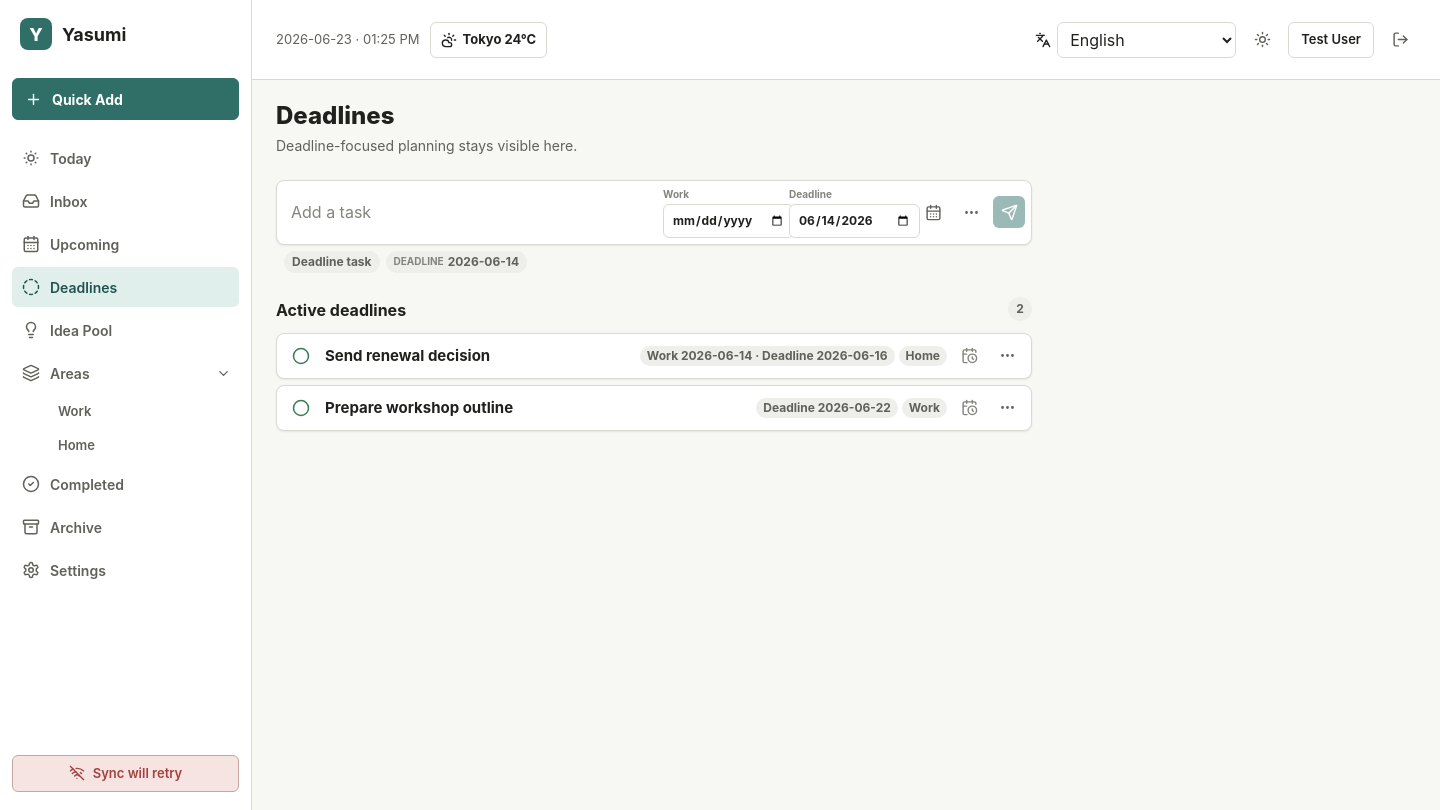
Test case: phase 05 sync UI states › creates deadline tasks from the Deadlines inline add by default
Expected: the heading "Deadlines" is shown, [276,101,394,130]
Type "Inline passport renewal" into the field named "Task title" at (470, 212), box [283,194,657,230]
Then press Enter
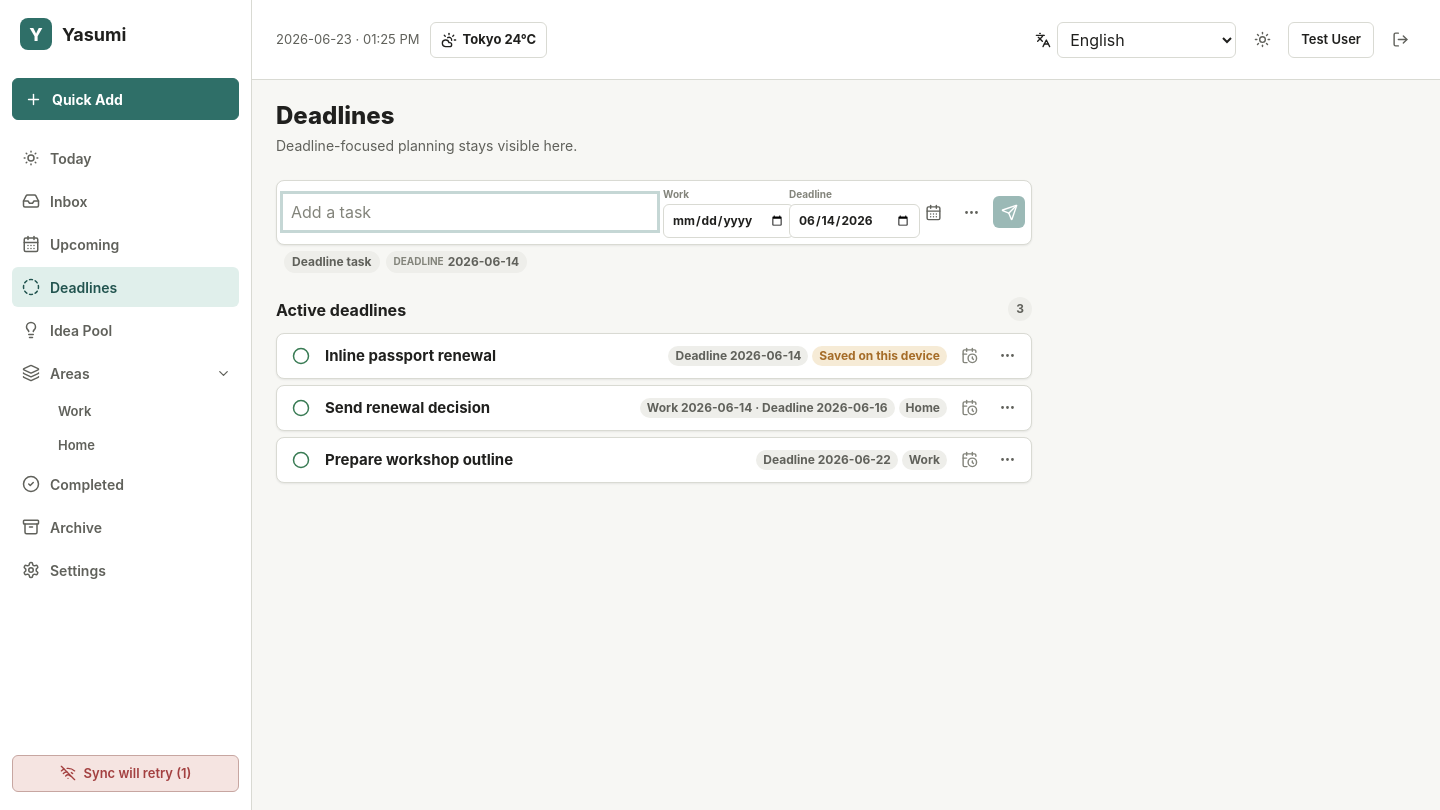
Expected: the text "2026-06-14" is shown, [448,254,519,269]
Expected: the text "Inline passport renewal" is shown, [325,346,496,366]
